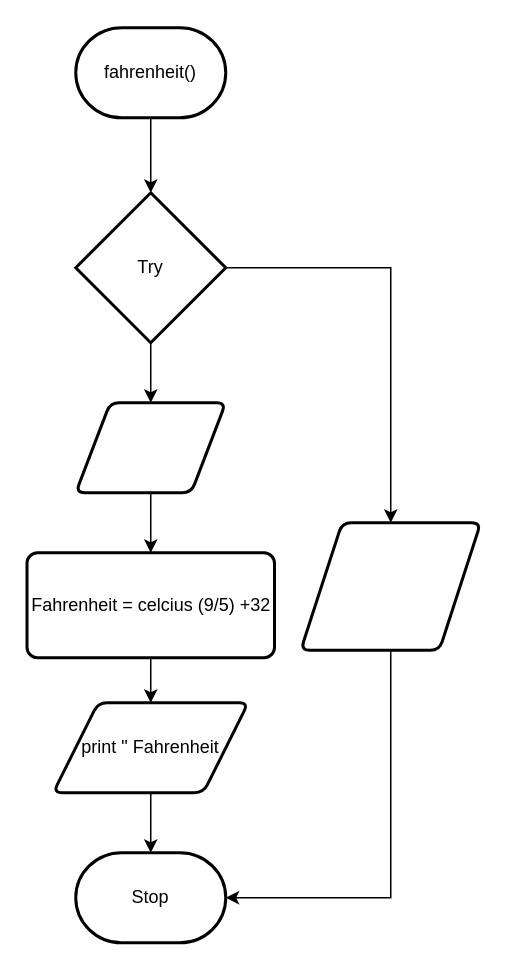
Some shapes in this 509 by 969 pixel diagram are drawn without their labels. Here are the shapes that lost their labels. From the top down, the box of each, then its label:
(74, 400, 226, 494): Get celcius
(298, 520, 482, 651): Invalid temperature, please try again.
